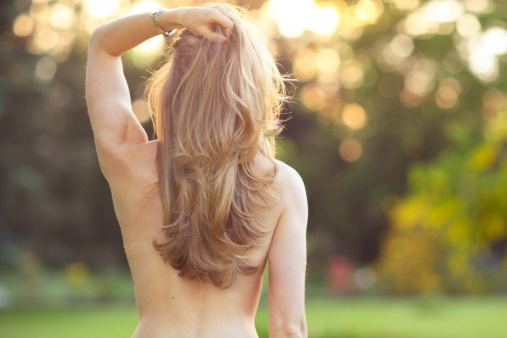em pe: (122, 0, 313, 338)
